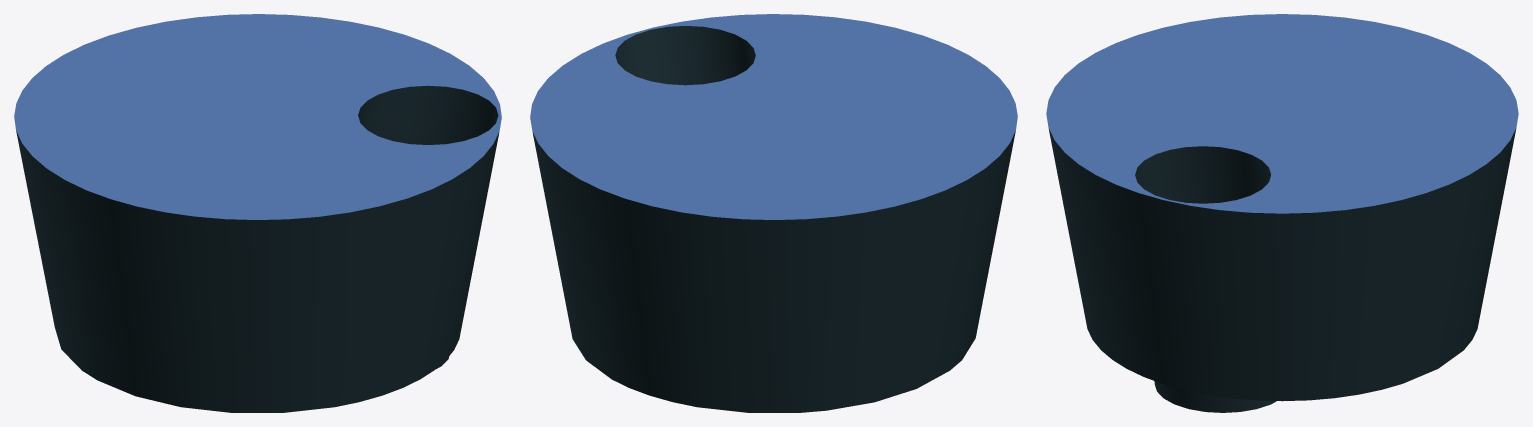
Rendered from spintable.glb.
3 renders of one model, left to right at view 1: azimuth 30°, elevation 25°; view 2: azimuth 150°, elevation 25°; view 3: azimuth 270°, elevation 25°, orthographic. The views are drawn at different scales.
Visible parts, largest first — view 1: Spin_Table; view 2: Spin_Table; view 3: Spin_Table.
Boxes of the visible parts, x1,y1,x2,y2 form: Spin_Table: (14, 14, 501, 412); Spin_Table: (530, 14, 1017, 412); Spin_Table: (1046, 14, 1518, 412).
Size of the model in its own units: 4.69 by 2.49 by 4.69.
Materials: 1 (1 with a texture image).
